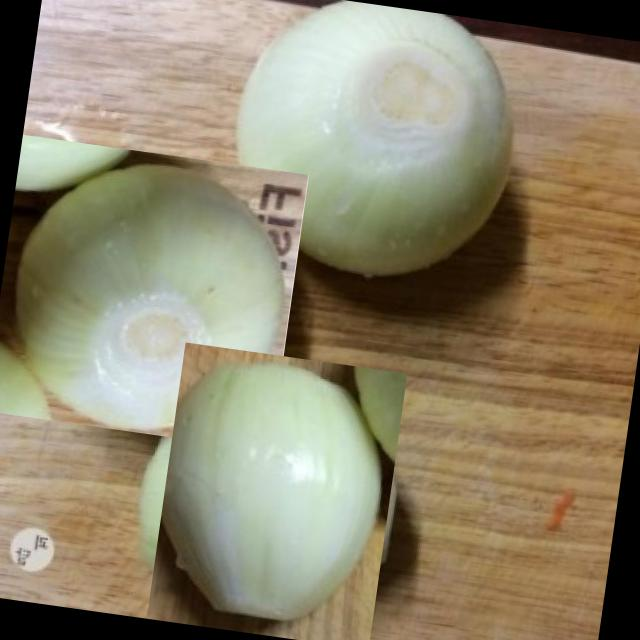Onion: (0, 134, 309, 451), (214, 0, 538, 293), (132, 355, 421, 640)
